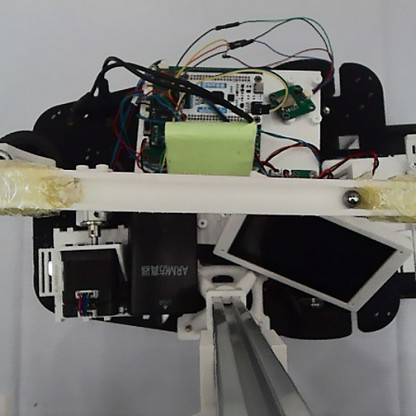ironball: (341, 187, 363, 209)
